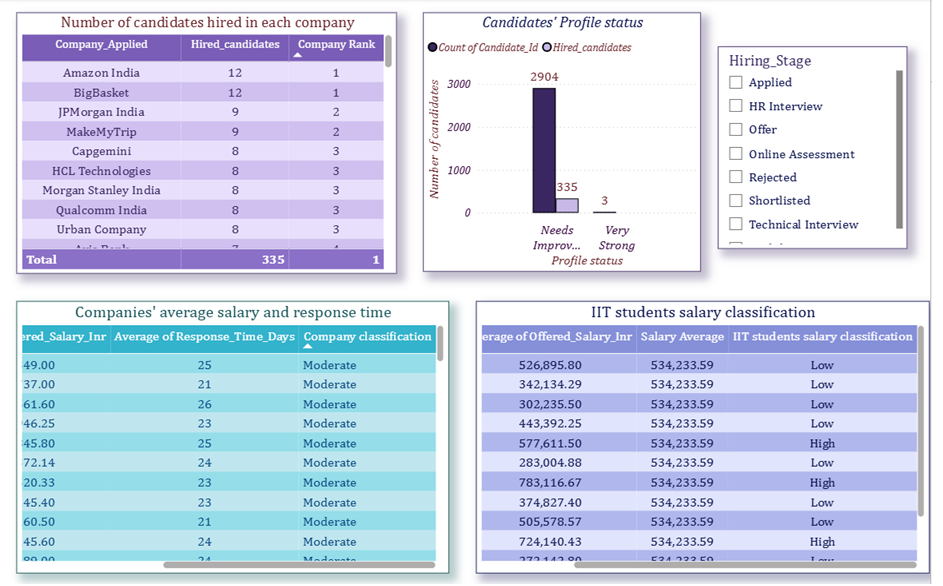

What the dashboard file says about the page in this screenshot:
{"tool":"powerbi","page":{"name":"Page 2","canvas":[1140,720],"ordinal":1},"visuals":[{"type":"tableEx","title":"Number of candidates hired in each company","fields":{"Values":["freshers_hiring_india_dataset.Company_Applied","freshers_hiring_india_dataset.Hired_candidates","freshers_hiring_india_dataset.Company Rank"]},"box":[22,17.1,465.9,320.4],"z":0},{"type":"tableEx","title":"IIT students salary classification","fields":{"Values":["freshers_hiring_india_dataset.College","Avg(freshers_hiring_india_dataset.Offered_Salary_Inr)","freshers_hiring_india_dataset.Salary Average","freshers_hiring_india_dataset.IIT students salary classification"]},"box":[569.8,370.5,555.2,333.8],"z":1000},{"type":"clusteredColumnChart","title":"Candidates'' Profile status","fields":{"Category":["freshers_hiring_india_dataset.Strong profile"],"Y":["CountNonNull(freshers_hiring_india_dataset.Candidate_Id)","freshers_hiring_india_dataset.Hired_candidates"]},"box":[519.7,17.1,339.9,317.9],"z":2000},{"type":"slicer","fields":{"Values":["freshers_hiring_india_dataset.Hiring_Stage"]},"box":[880.4,58.7,232.3,248.2],"z":3000},{"type":"tableEx","title":"Companies'' average salary and response time","fields":{"Values":["freshers_hiring_india_dataset.Company_Applied","Avg(freshers_hiring_india_dataset.Offered_Salary_Inr)","Avg(freshers_hiring_india_dataset.Response_Time_Days)","freshers_hiring_india_dataset.Company quality"]},"box":[22,370.5,529.5,333.8],"z":4000}]}

Visuals, with their boxes in screenshot pixels (x1, y1, x2, y2), scaled from the page's 1140x720 canvas onto the 943x586 screenshot:
"Number of candidates hired in each company" tableEx: [x1=18, y1=14, x2=404, y2=275]
"IIT students salary classification" tableEx: [x1=471, y1=302, x2=931, y2=573]
"Candidates'' Profile status" clusteredColumnChart: [x1=430, y1=14, x2=711, y2=273]
slicer - freshers_hiring_india_dataset.Hiring_Stage: [x1=728, y1=48, x2=920, y2=250]
"Companies'' average salary and response time" tableEx: [x1=18, y1=302, x2=456, y2=573]
